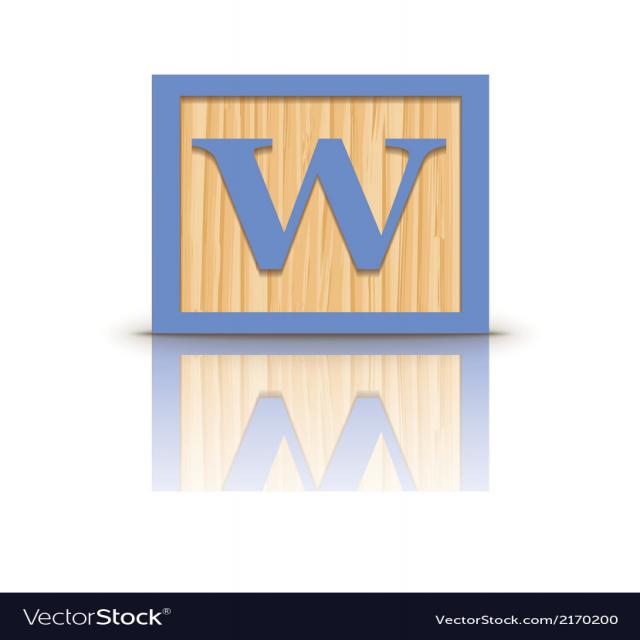W: (189, 106, 443, 303)
